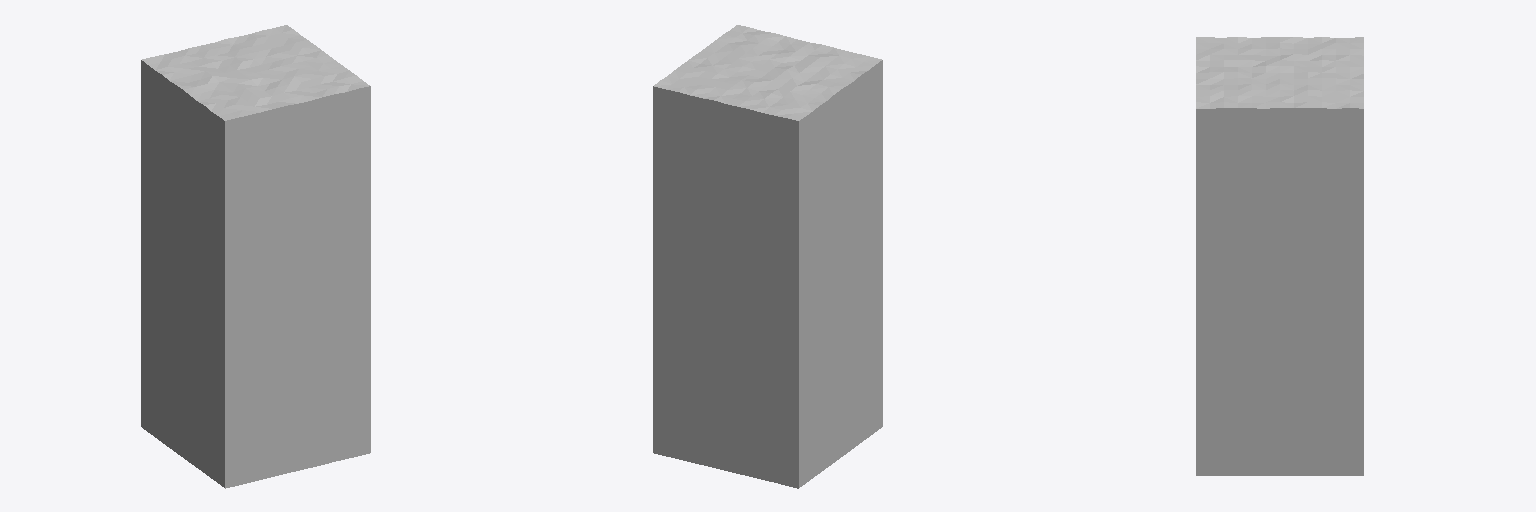
The model's file is grass3.obj.
3 renders of one model, left to right at view 1: azimuth 30°, elevation 25°; view 2: azimuth 150°, elevation 25°; view 3: azimuth 270°, elevation 25°, orthographic.
Parts seen in each view (by area): view 1: Cube; view 2: Cube; view 3: Cube.
Part boxes in pixels (left/top/right/bottom): Cube: left=141, top=25, right=370, bottom=488; Cube: left=653, top=25, right=882, bottom=488; Cube: left=1196, top=37, right=1363, bottom=475.
Bounding box in the file's own units: 19.41 × 47.04 × 19.41.